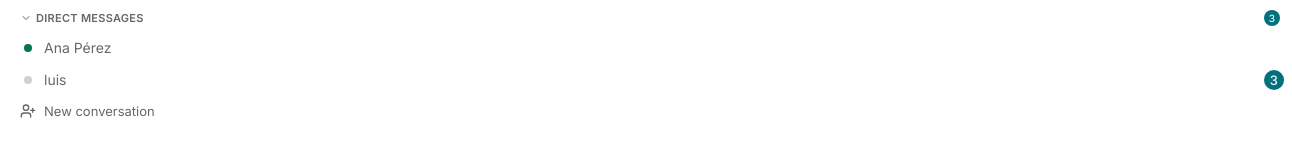
Test: la sección › se pliega y se recuerda por org
The width and height of the screenshot is (1292, 160).
What coordinates should you click on to do the following:
click the button "Direct messages 3"
I would click on:
 (90, 18)
Its box is [12,10,1288,26].
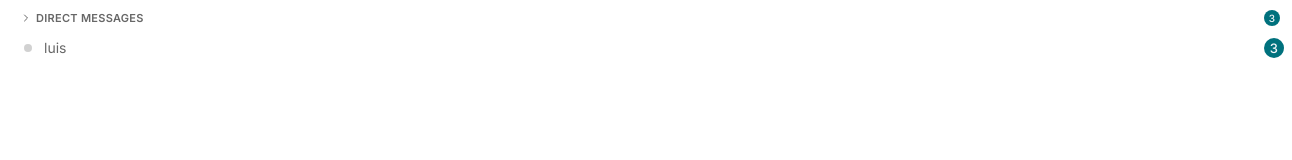
Expected: the button "luis 3" is shown, [20,32,1284,64]
Result: the button "Ana Pérez" is gone
